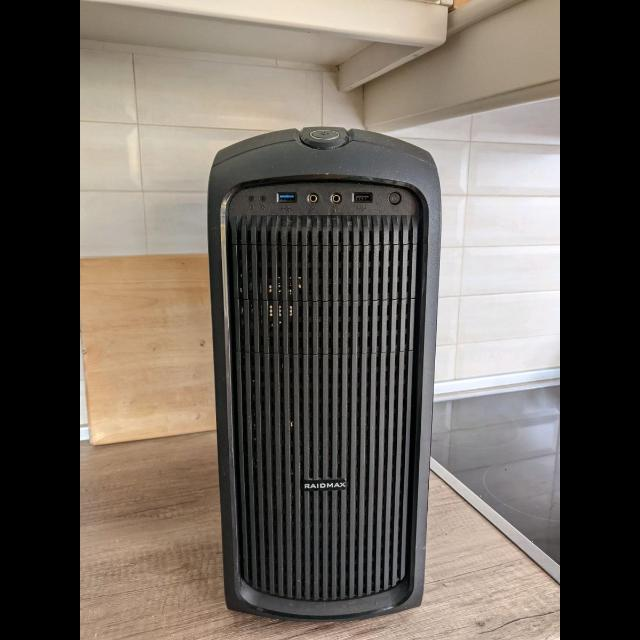Desktop-PC: (209, 130, 435, 620)
